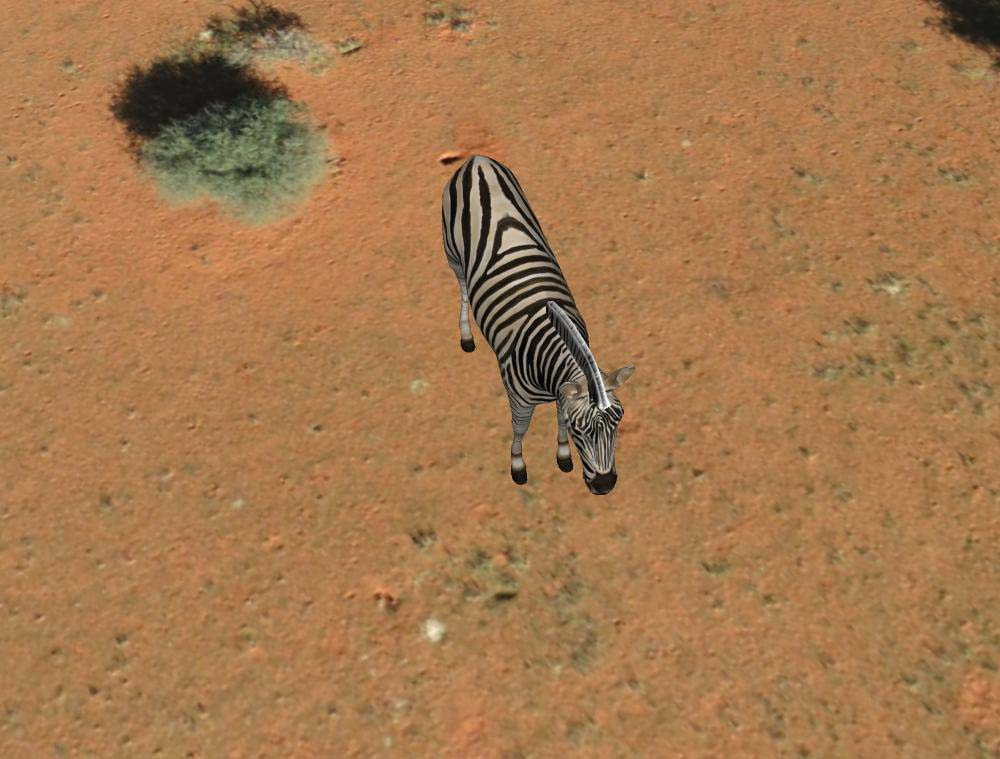zebra: (437, 151, 628, 502)
